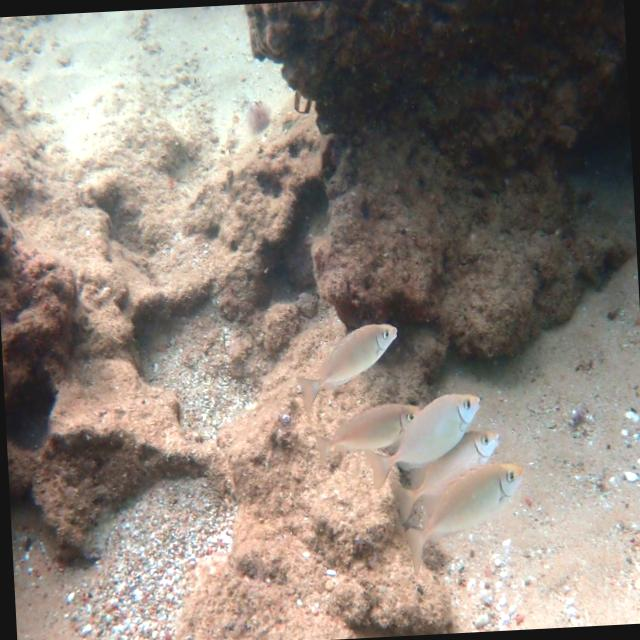Sokar Baligi: (292, 312, 413, 417)
